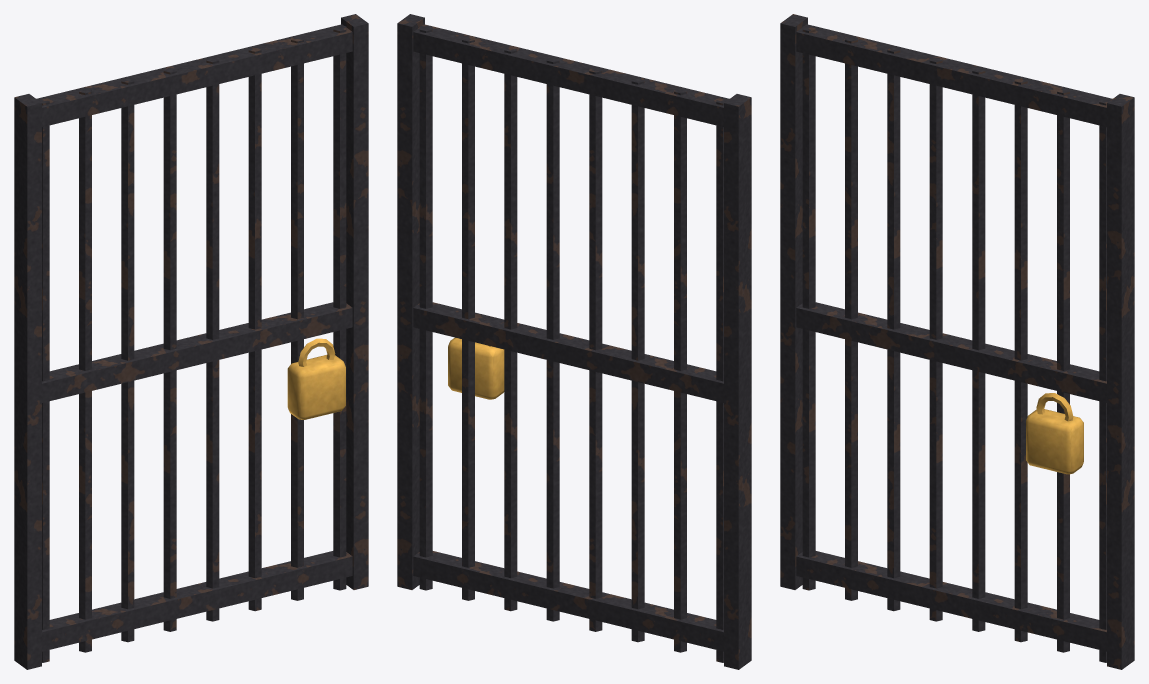
Rendered from dun_cage_gold.glb.
3 renders of one model, left to right at view 1: azimuth 30°, elevation 25°; view 2: azimuth 150°, elevation 25°; view 3: azimuth 330°, elevation 25°, orthographic.
Parts seen in each view (by area): view 1: dun_cage_gold_iron_0, dun_cage_gold_gold_0; view 2: dun_cage_gold_iron_0, dun_cage_gold_gold_0; view 3: dun_cage_gold_iron_0, dun_cage_gold_gold_0.
Part boxes in pixels (bbox=[...]): dun_cage_gold_iron_0: bbox=[14, 14, 368, 669]; dun_cage_gold_gold_0: bbox=[287, 338, 345, 419]; dun_cage_gold_iron_0: bbox=[397, 14, 751, 669]; dun_cage_gold_gold_0: bbox=[448, 337, 504, 399]; dun_cage_gold_iron_0: bbox=[780, 14, 1134, 669]; dun_cage_gold_gold_0: bbox=[1026, 393, 1083, 474].
Size of the model in its own units: 1.84 by 2.9 by 0.26.
2 materials, 2 textured.
